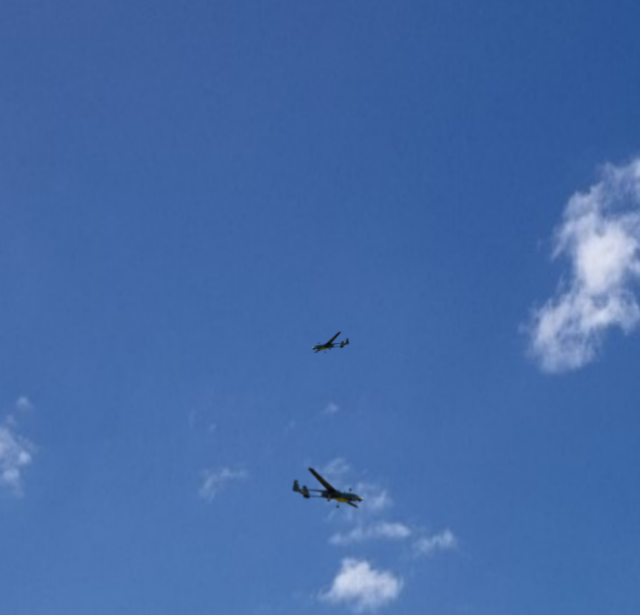military drone: (291, 466, 364, 508), (311, 331, 349, 353)
